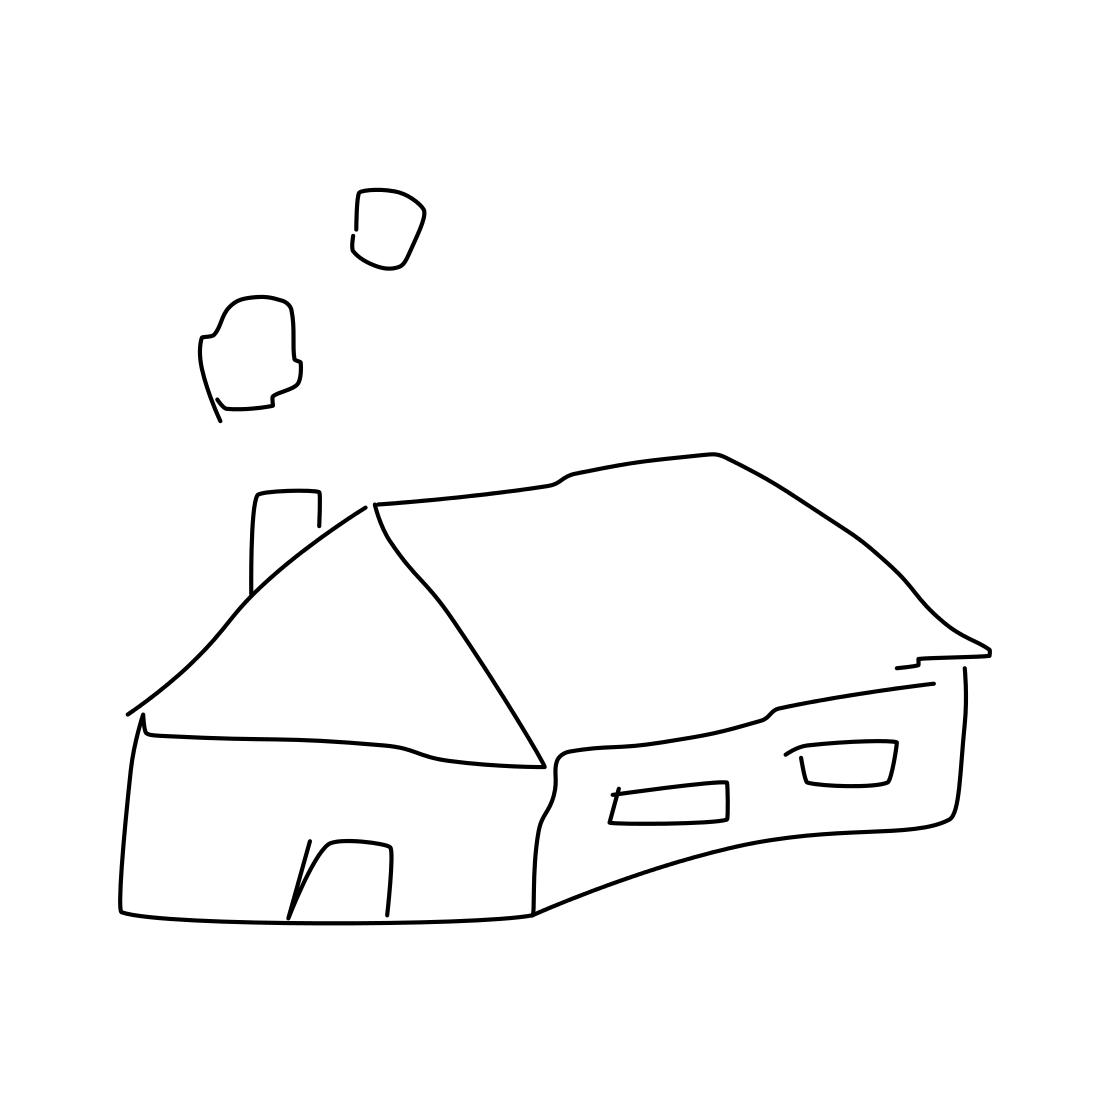chimney: (233, 465, 332, 608)
door: (260, 815, 415, 930)
house: (47, 420, 1030, 935)
roof: (105, 445, 982, 723)
window: (598, 768, 739, 830), (780, 732, 915, 794)
